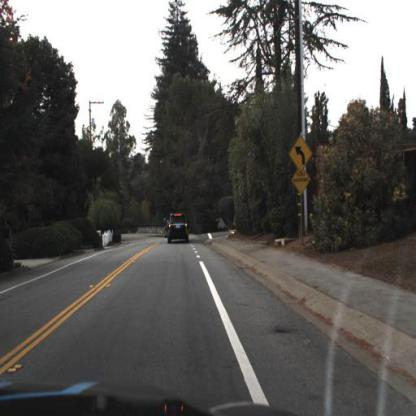car: (169, 213, 191, 242)
